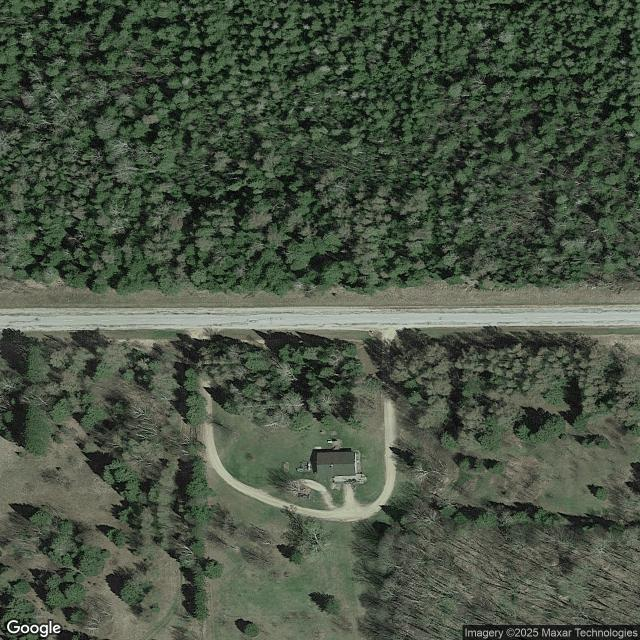Propane: (308, 463, 310, 471)
